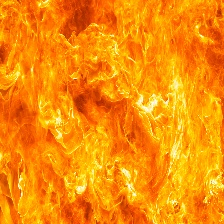fire: (1, 1, 223, 223)
